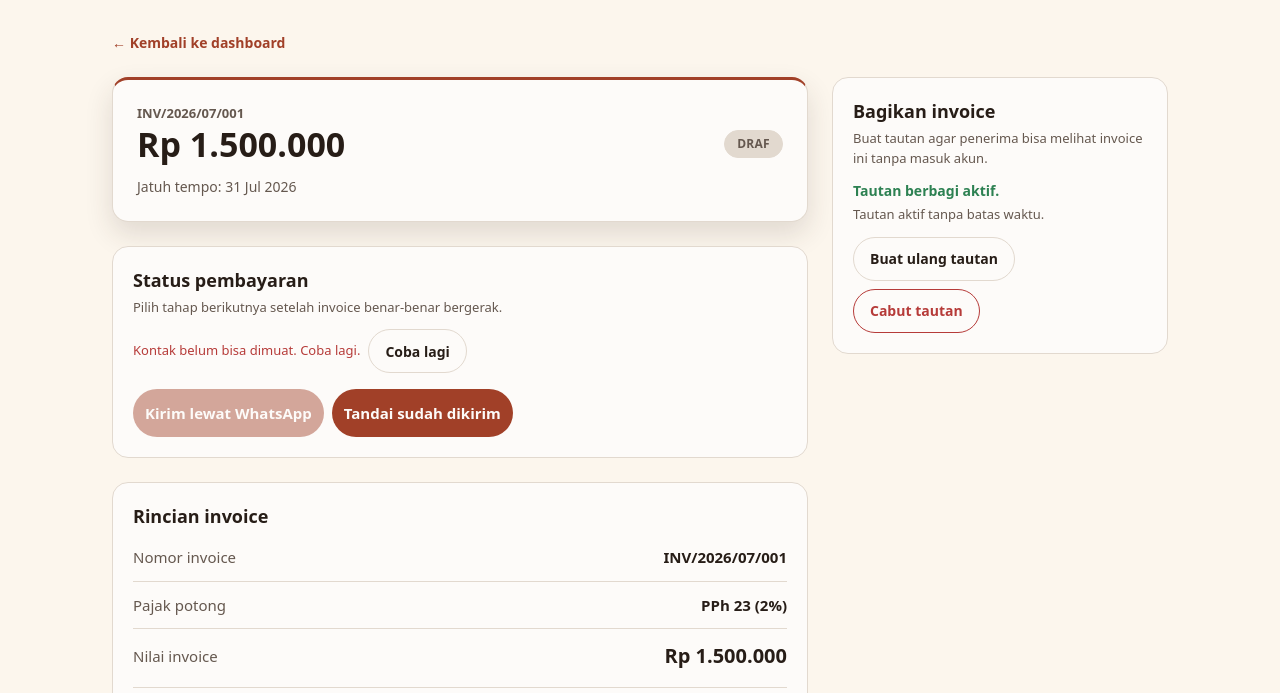
Test: InvoiceDetailClient › Kontak WhatsApp dengan retry › shows a retry affordance in the payment-status section when the contact fetch fails, and recovers after retry
Expected: the text "Kontak belum bisa dimuat. Coba lagi." is shown, [133,341,360,361]
Click the button "Coba lagi" at coordinates (418, 351), box [368,329,467,373]
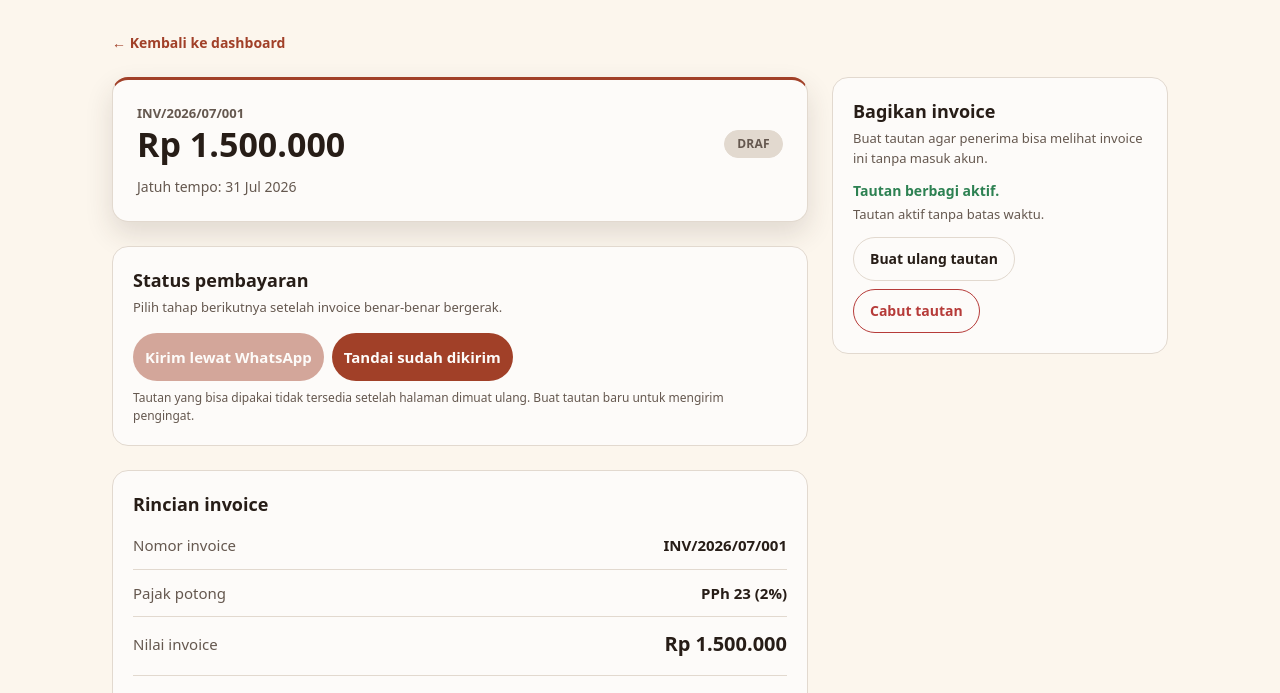
Expected: the text "Kontak belum bisa dimuat. Coba lagi." is gone
